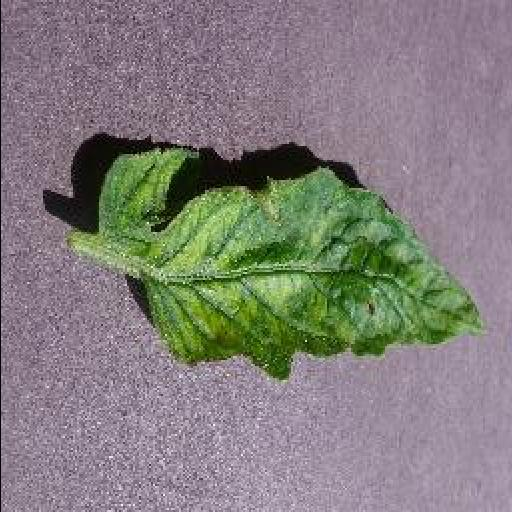Mosaic Virus: (90, 140, 490, 382)
